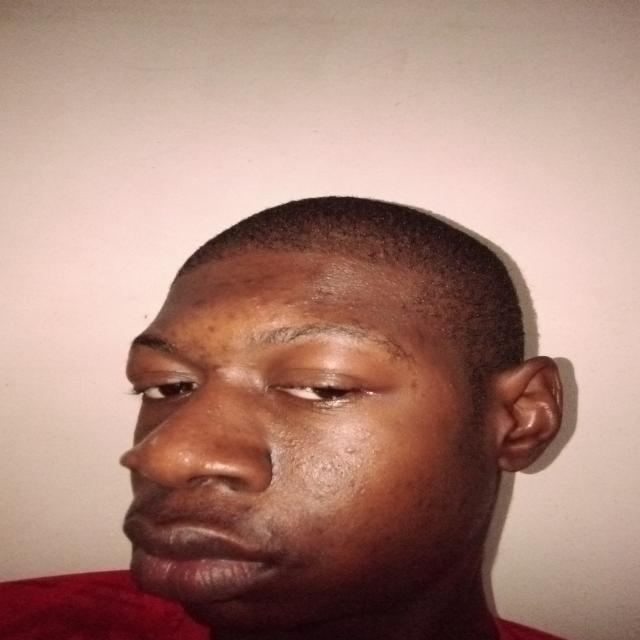acne: (272, 457, 370, 499), (266, 414, 326, 476), (281, 290, 334, 308), (297, 261, 330, 283), (238, 272, 286, 286), (394, 474, 432, 490), (210, 312, 252, 322), (339, 294, 361, 313), (188, 298, 216, 310), (208, 358, 236, 370), (296, 308, 326, 319), (197, 344, 217, 360), (408, 377, 424, 395), (208, 438, 228, 452), (260, 294, 277, 308), (203, 323, 219, 336), (342, 446, 360, 456), (166, 327, 180, 339), (222, 342, 232, 354), (316, 524, 326, 536), (398, 302, 408, 310)
